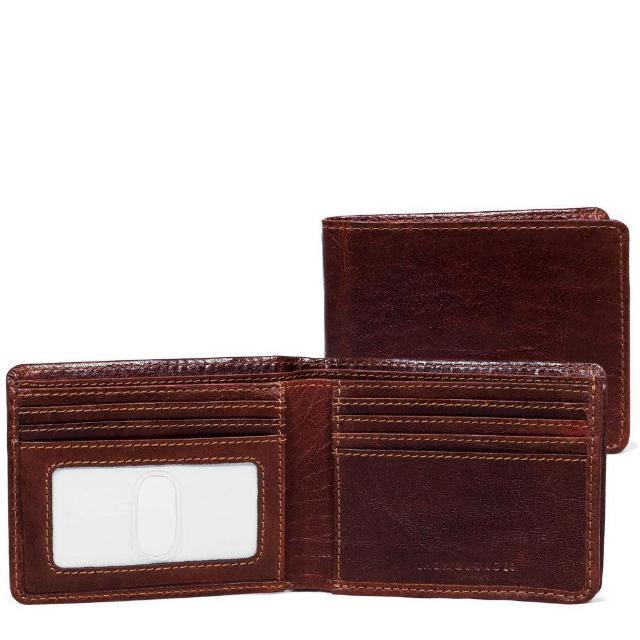wallet: (4, 352, 606, 604), (318, 208, 626, 348)
